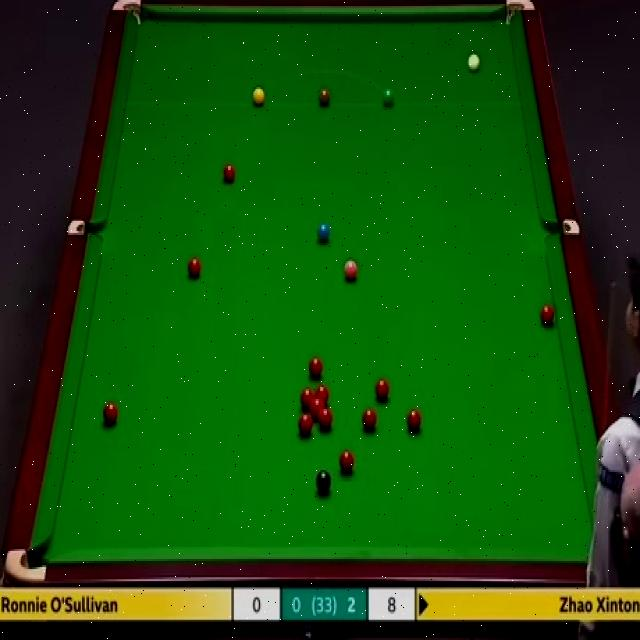black-ball: (315, 468, 330, 494)
blue-ball: (317, 221, 330, 246)
brown-ball: (318, 87, 330, 106)
green-ball: (382, 88, 395, 106)
pink-ball: (342, 259, 359, 282)
red-ball: (404, 407, 424, 435), (361, 406, 378, 436), (373, 375, 390, 404), (340, 447, 355, 476), (102, 400, 118, 427), (308, 357, 324, 381), (314, 384, 330, 407), (188, 255, 202, 281), (298, 413, 312, 438), (540, 304, 554, 329), (318, 407, 332, 431), (300, 387, 314, 411), (311, 399, 325, 419), (222, 165, 236, 184)
white-ball: (467, 52, 481, 72)
yellow-ball: (252, 87, 265, 106)
